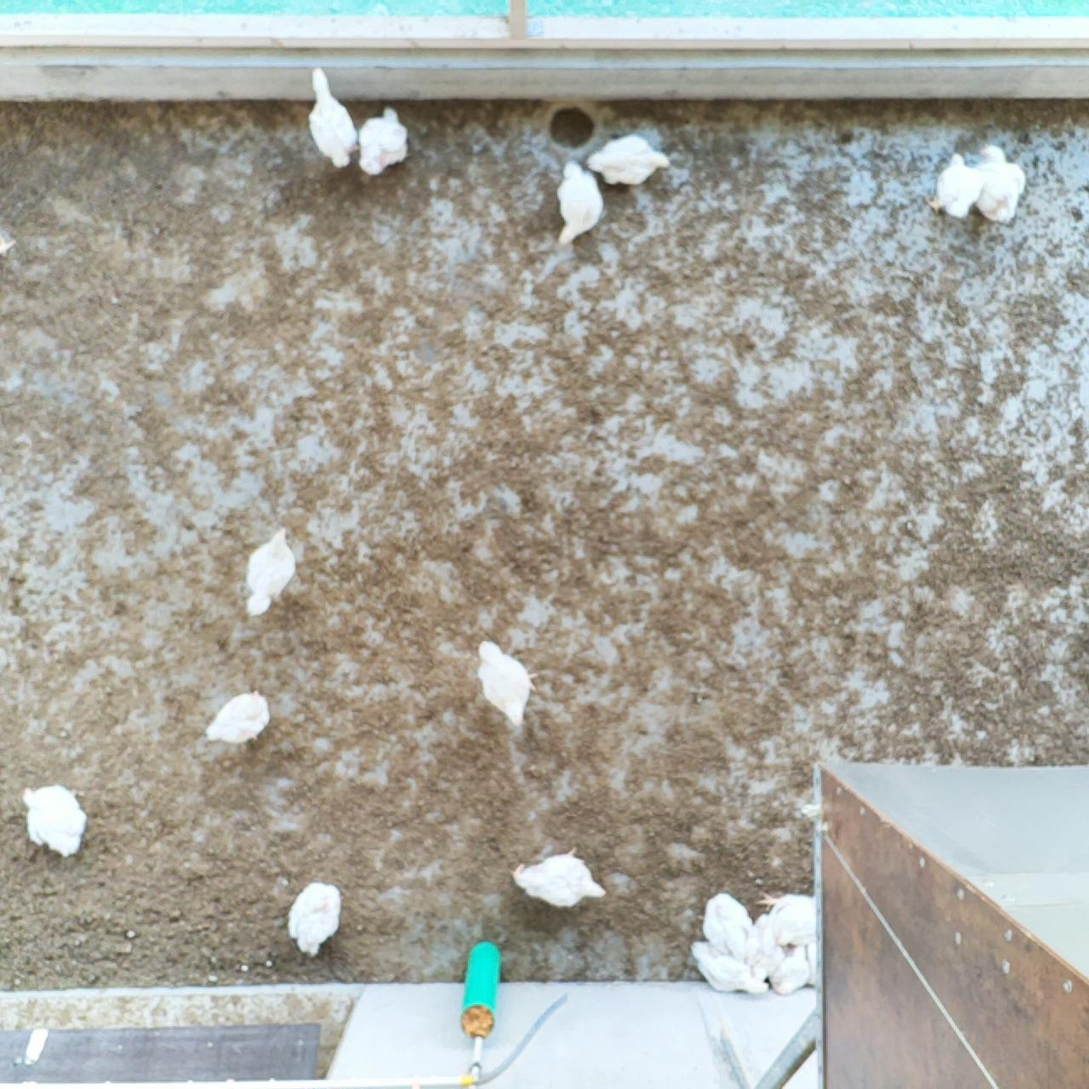chicken: (511, 843, 612, 912), (300, 61, 363, 170), (690, 933, 785, 1002), (474, 632, 540, 727), (239, 521, 297, 620), (25, 780, 92, 863), (282, 880, 346, 959), (700, 891, 762, 971), (352, 101, 415, 175), (552, 157, 606, 243), (591, 132, 673, 188), (206, 683, 271, 753), (975, 140, 1026, 228), (754, 885, 820, 953), (925, 149, 987, 221), (734, 910, 782, 983), (759, 941, 812, 998)
